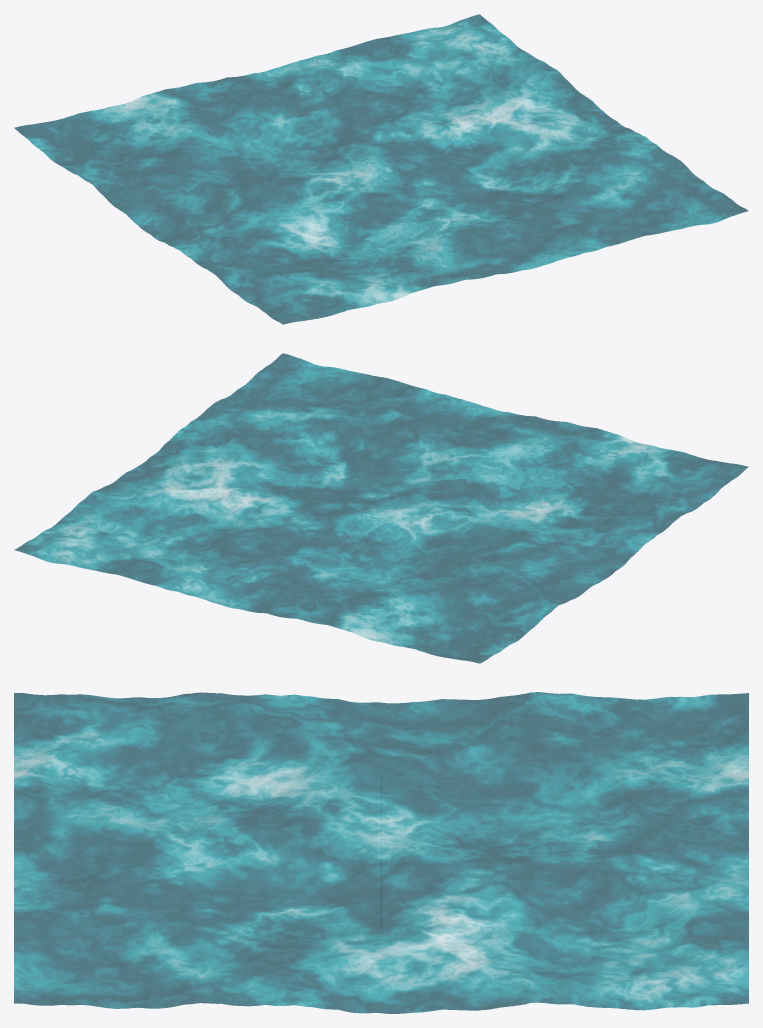
The model's file is Ocean.fbx.
The picture shows the model from 3 angles, top to bottom: view 1: azimuth 30°, elevation 25°; view 2: azimuth 150°, elevation 25°; view 3: azimuth 270°, elevation 25°; orthographic projection. The views are drawn at different scales.
Visible parts, largest first — view 1: Ocean:Ocean; view 2: Ocean:Ocean; view 3: Ocean:Ocean.
Boxes of the visible parts, <box> form: Ocean:Ocean: <box>14,14,748,324</box>; Ocean:Ocean: <box>14,353,748,663</box>; Ocean:Ocean: <box>14,692,748,1013</box>.
Size of the model in its own units: 4 by 0.1051 by 4.
1 material, 1 textured.
